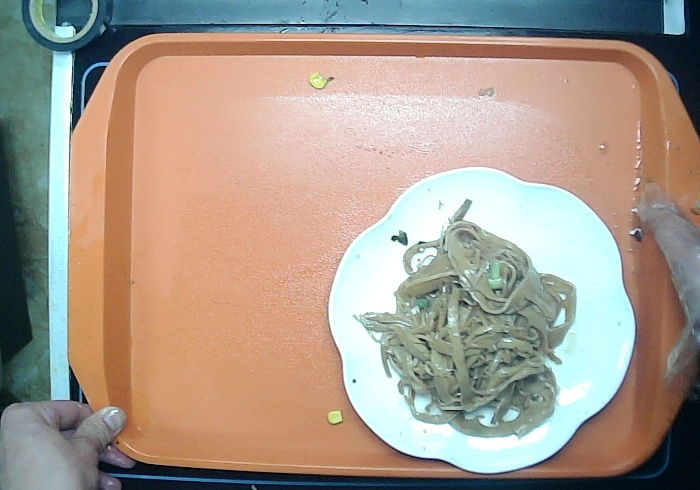HZYJPL-Bai_Se_Hua_Duo_Wan: (319, 160, 637, 474)
